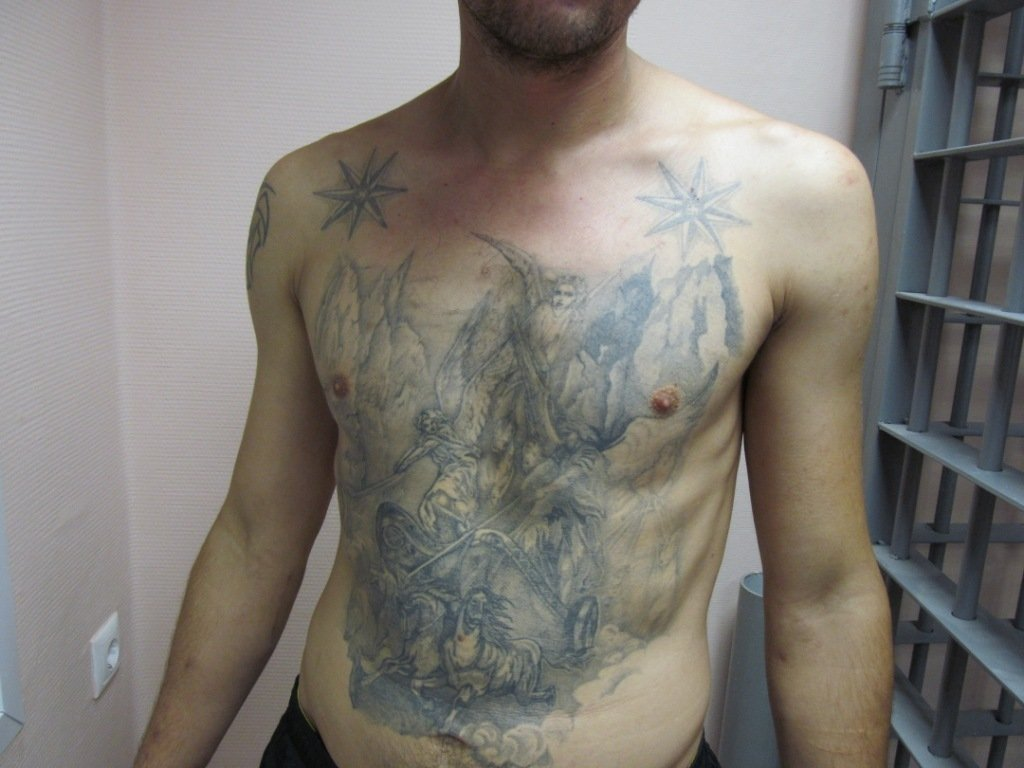tatu1_angel: (403, 234, 731, 576)
tatu4_zvezda: (631, 145, 753, 273), (310, 142, 420, 245)
